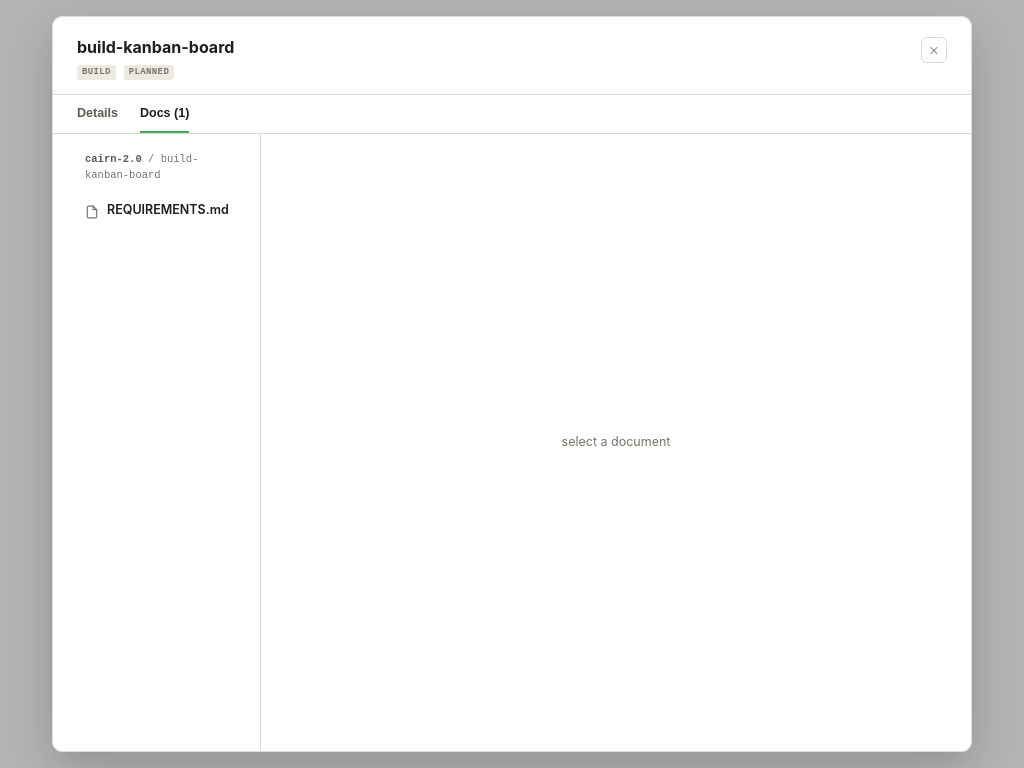
it: TaskDrawer › Docs tab renders the file list and fetches a doc's content only once clicked
Check: the text "select a document" is shown, box top-left (562, 434), bottom-right (670, 449)
Click the button with test id "docs-file-REQUIREMENTS.md". click: (162, 210)
box: top-left (77, 194), bottom-right (248, 227)
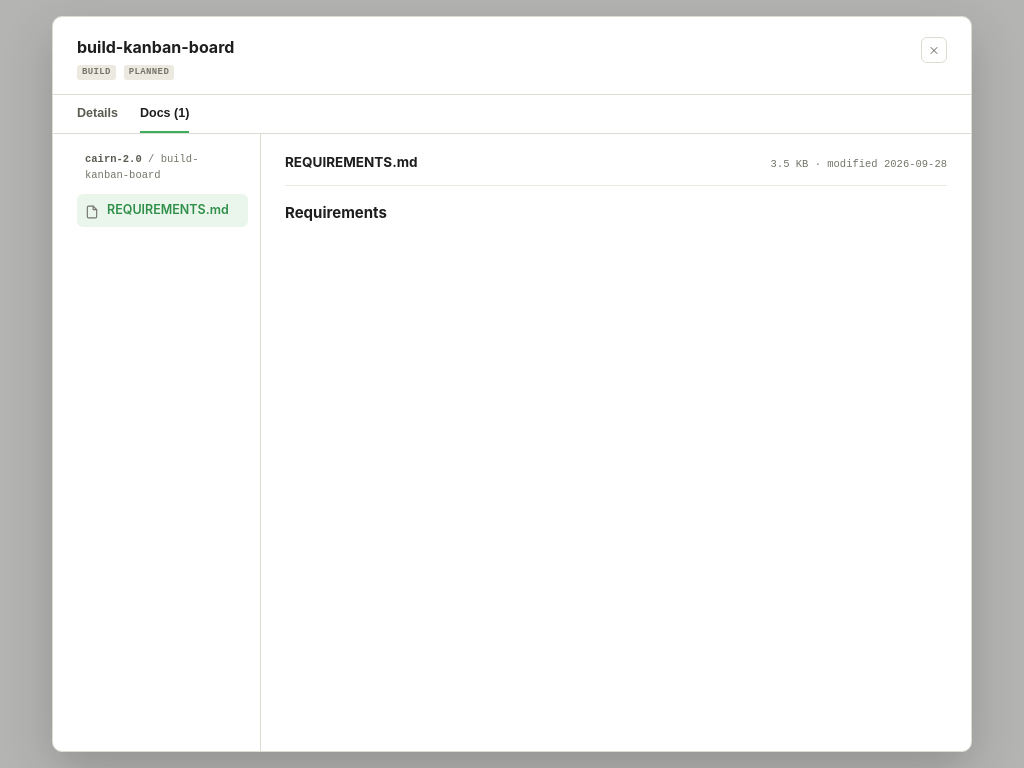
Check: the heading "Requirements" is shown, box top-left (285, 203), bottom-right (387, 222)
